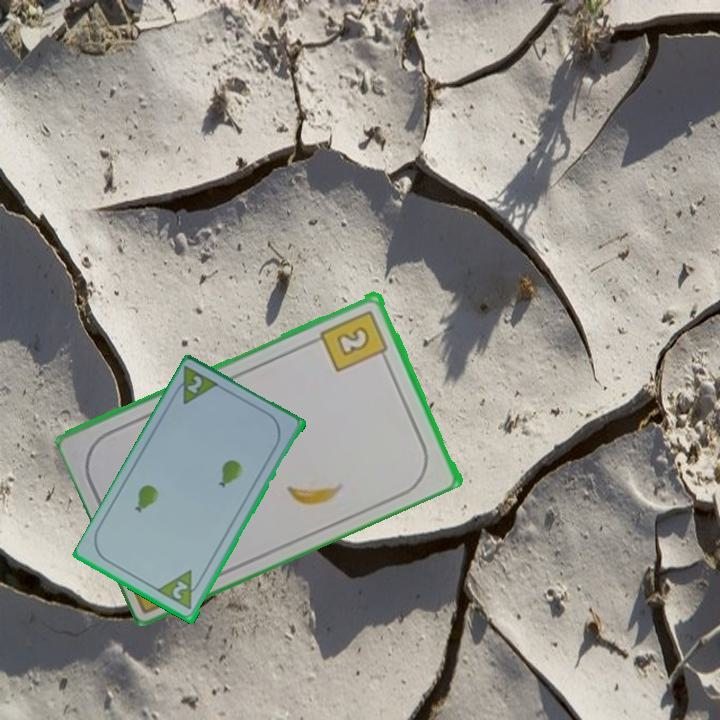2b: (317, 306, 391, 374)
2p: (155, 567, 206, 613), (183, 372, 205, 397)
